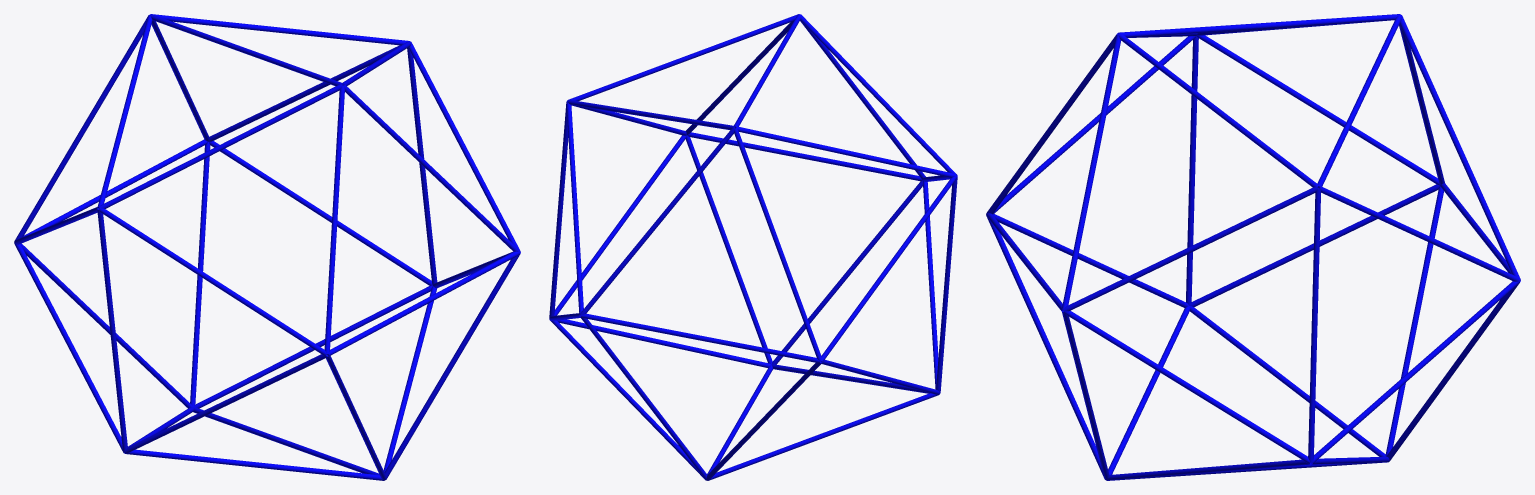
The model's file is icosahedron.obj.
3 views of the same model, side by side, from view 1: azimuth 30°, elevation 25°; view 2: azimuth 150°, elevation 25°; view 3: azimuth 270°, elevation 25° (orthographic). The views are drawn at different scales.
Parts seen in each view (by area): view 1: cyl21, cyl17, cyl24, cyl12, cyl2, cyl15, cyl7, cyl3, cyl0, cyl18, cyl28, cyl22 (+15 smaller); view 2: cyl0, cyl23, cyl9, cyl6, cyl4, cyl2, cyl19, cyl29, cyl11, cyl25, cyl28, cyl21 (+16 smaller); view 3: cyl8, cyl4, cyl10, cyl27, cyl22, cyl26, cyl11, cyl3, cyl25, cyl5, cyl13, cyl28 (+15 smaller).
Part boxes in pixels (x1,y1,x2,y2): cyl21: [99, 84, 342, 208]; cyl17: [324, 85, 344, 354]; cyl24: [99, 208, 326, 355]; cyl12: [125, 449, 383, 480]; cyl2: [384, 254, 520, 479]; cyl15: [190, 142, 210, 406]; cyl7: [193, 285, 432, 408]; cyl3: [209, 141, 432, 285]; cyl0: [14, 16, 147, 240]; cyl18: [152, 14, 408, 45]; cyl28: [97, 209, 127, 452]; cyl22: [343, 84, 520, 251]; cyl0: [734, 128, 821, 361]; cyl23: [581, 313, 820, 362]; cyl9: [568, 14, 798, 101]; cyl6: [708, 393, 938, 480]; cyl4: [580, 127, 734, 315]; cyl2: [685, 135, 772, 364]; cyl19: [687, 132, 922, 181]; cyl29: [735, 126, 956, 177]; cyl11: [821, 176, 956, 361]; cyl25: [771, 180, 922, 364]; cyl28: [936, 176, 957, 393]; cyl21: [800, 14, 956, 174]; cyl8: [1063, 311, 1310, 463]; cyl4: [1399, 16, 1520, 279]; cyl10: [1063, 187, 1318, 311]; cyl27: [1119, 14, 1399, 37]; cyl22: [1062, 34, 1121, 309]; cyl26: [1308, 188, 1320, 462]; cyl11: [1197, 35, 1439, 185]; cyl3: [1312, 281, 1519, 463]; cyl25: [986, 216, 1103, 477]; cyl5: [1189, 184, 1439, 307]; cyl13: [1385, 185, 1443, 456]; cyl28: [1186, 36, 1198, 305].
Size of the model in its own units: 1.67 by 1.68 by 1.84.
